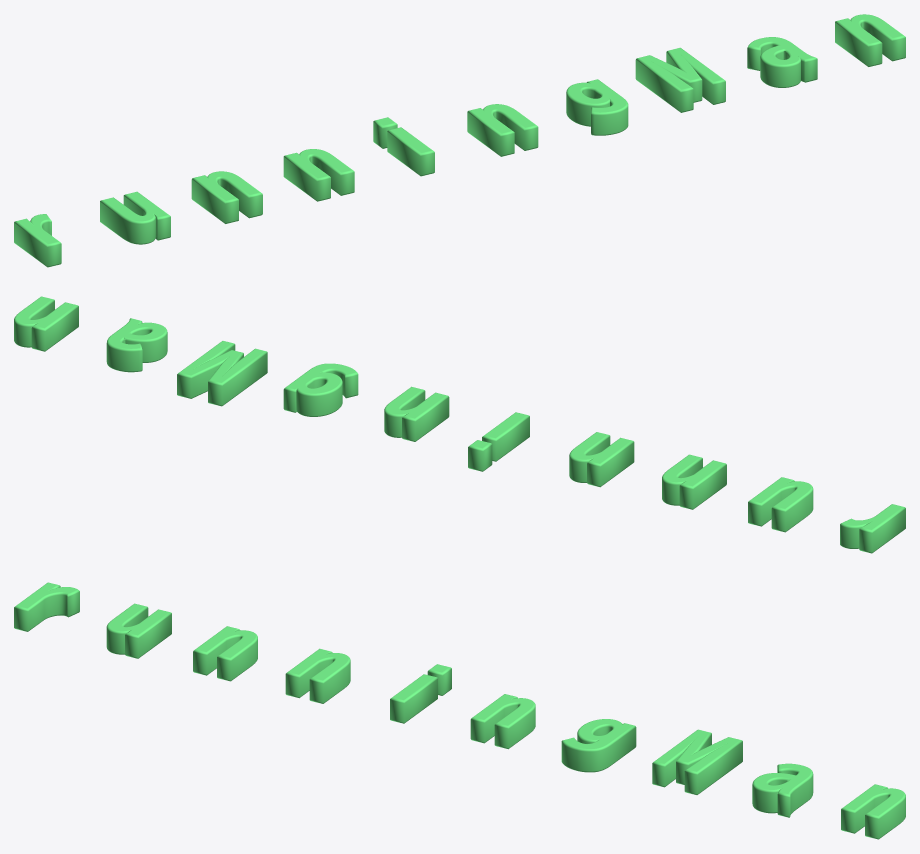
Rendered from title.obj.
3 views of the same model, one above another, from view 1: azimuth 30°, elevation 25°; view 2: azimuth 150°, elevation 25°; view 3: azimuth 330°, elevation 25° (orthographic).
Visible parts, largest first — view 1: テキスト; view 2: テキスト; view 3: テキスト.
Boxes of the visible parts, bbox=[...] form: テキスト: bbox=[14, 14, 905, 267]; テキスト: bbox=[14, 296, 905, 553]; テキスト: bbox=[14, 582, 905, 839].
Size of the model in its own units: 46.73 by 1.2 by 4.89.
